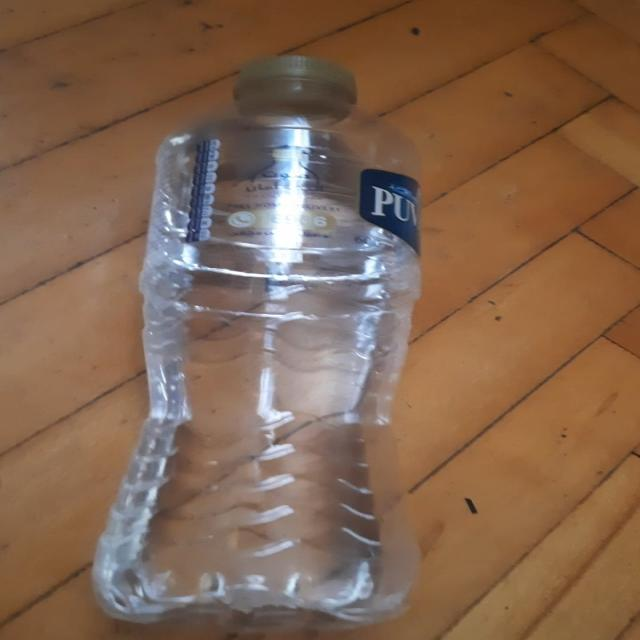Plastic: (92, 54, 418, 640), (162, 127, 414, 268), (224, 58, 356, 102)
